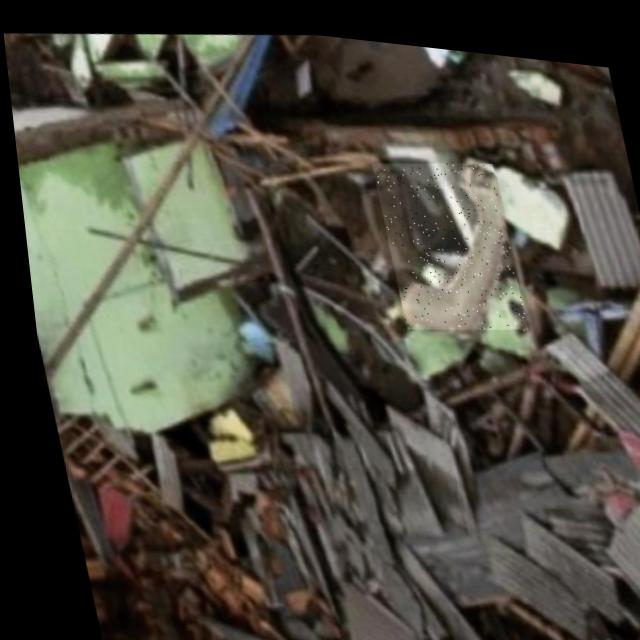Person in Rubble: (367, 141, 523, 331)
